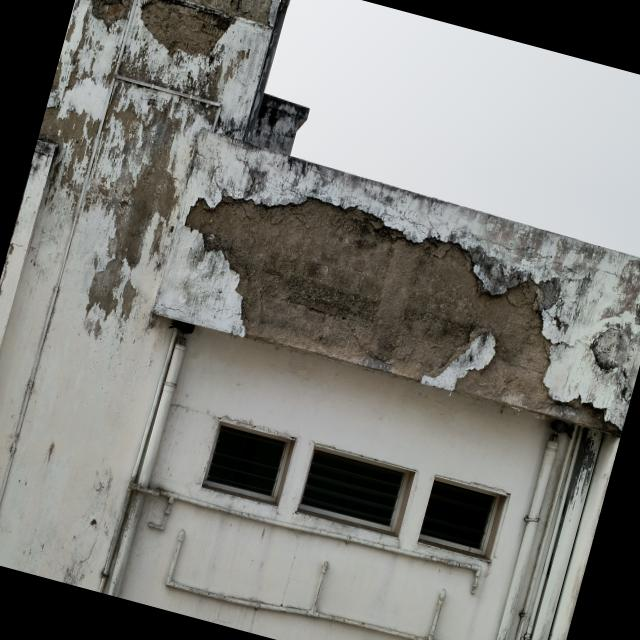peeling: (186, 197, 556, 411), (86, 85, 210, 319), (37, 0, 127, 153), (141, 0, 273, 55), (92, 0, 133, 26)
stain_mould: (468, 246, 526, 294), (591, 327, 625, 370), (537, 277, 560, 309)
